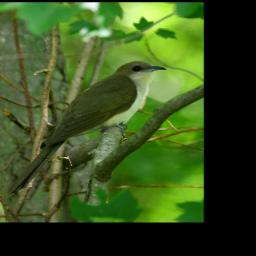Cuckoo: (6, 60, 167, 198)
